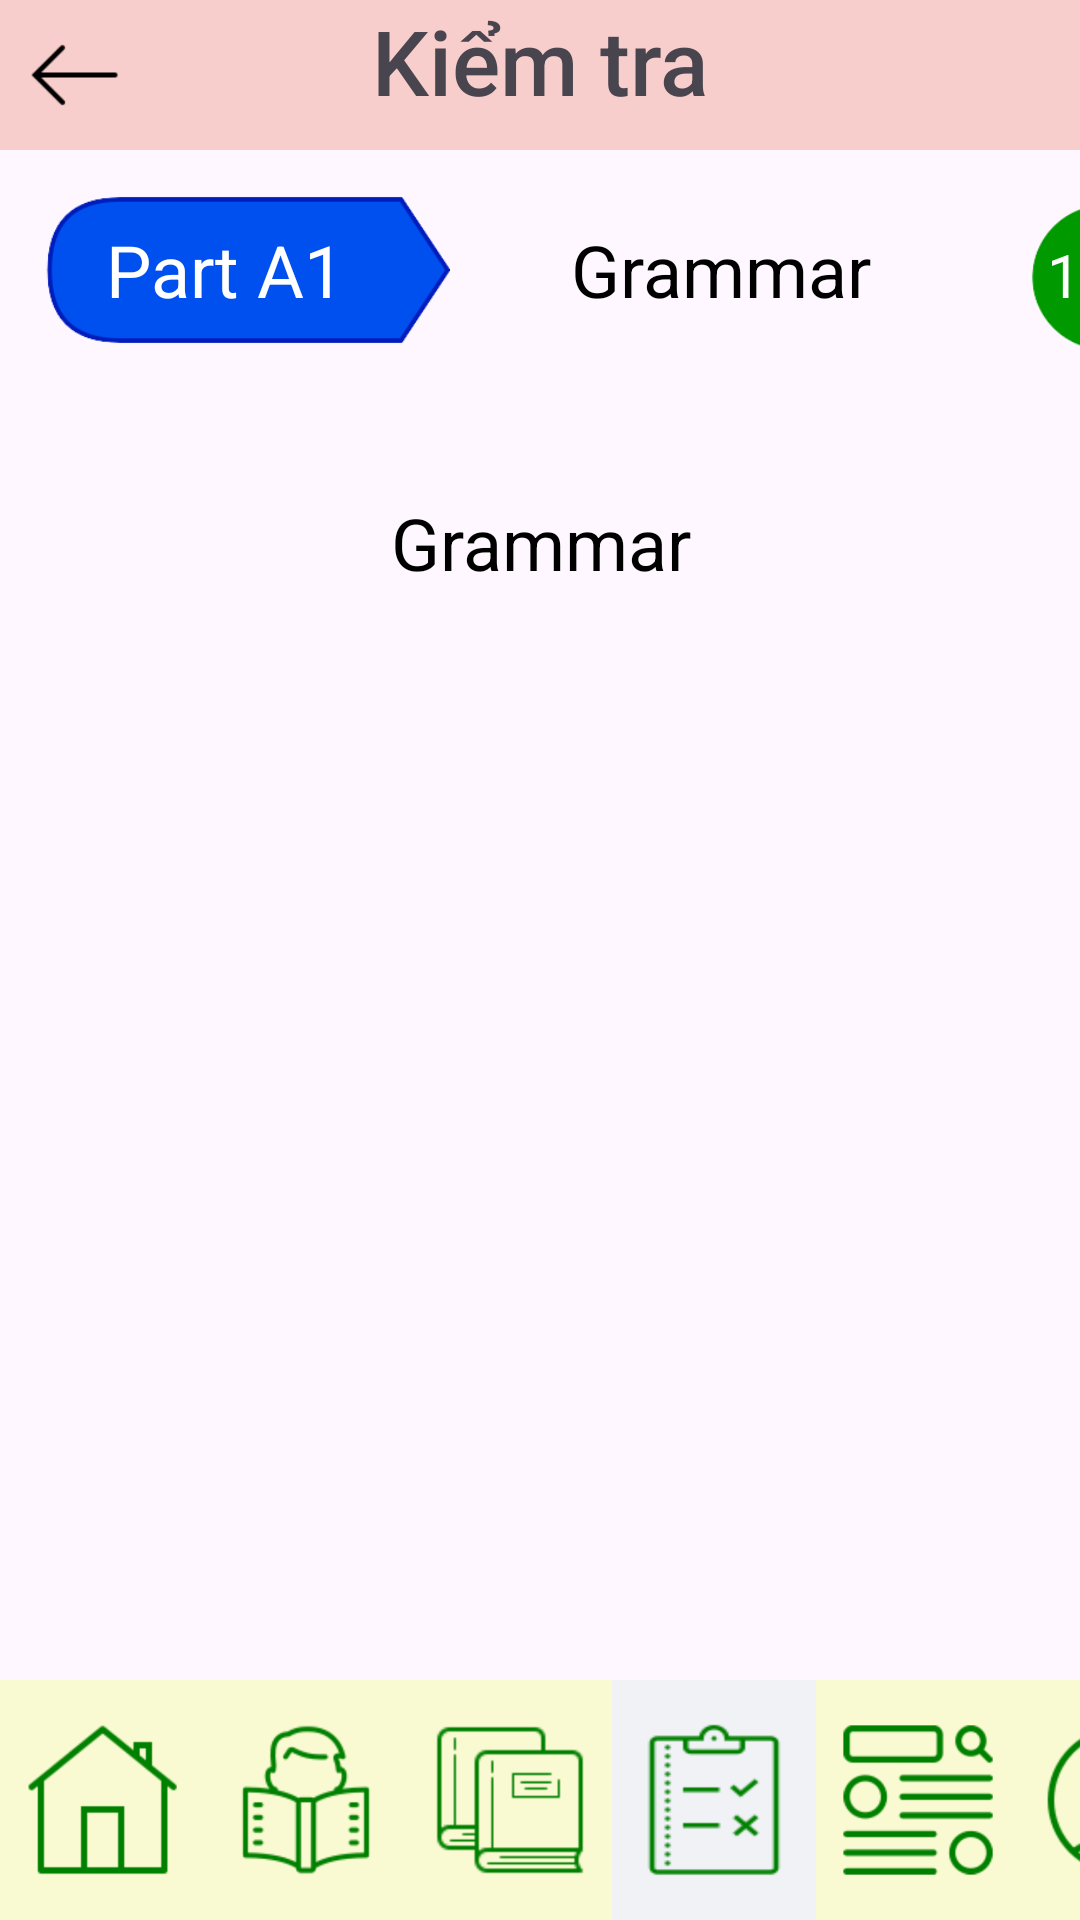

Locate icon controls on the screen. Image size 1080 × 1920, boxes as BBox(x1, y1, x2, y2).
back: BBox(31, 45, 118, 105)
exam: BBox(612, 1680, 816, 1920)
home: BBox(28, 1725, 177, 1874)
learn: BBox(242, 1725, 370, 1874)
